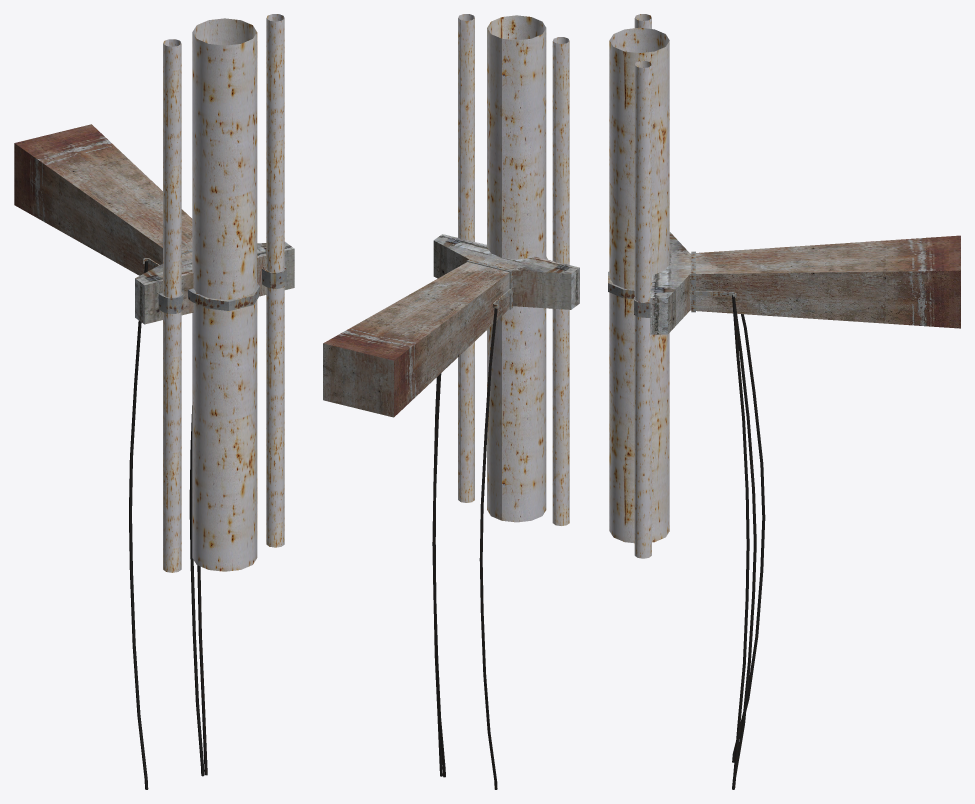
The model's file is rohrsystem_B.obj.
The picture shows the model from 3 angles, left to right: view 1: azimuth 30°, elevation 25°; view 2: azimuth 150°, elevation 25°; view 3: azimuth 270°, elevation 25°; orthographic projection. The views are drawn at different scales.
Visible parts, largest first — view 1: Object031; view 2: Object031; view 3: Object031.
Part boxes in pixels (box(x1,y1,x2,y2)): Object031: box(14, 14, 294, 789); Object031: box(323, 14, 579, 789); Object031: box(608, 14, 960, 789).
Bounding box in the file's own units: 3.24 × 16.23 × 7.07.
4 materials, 4 textured.
